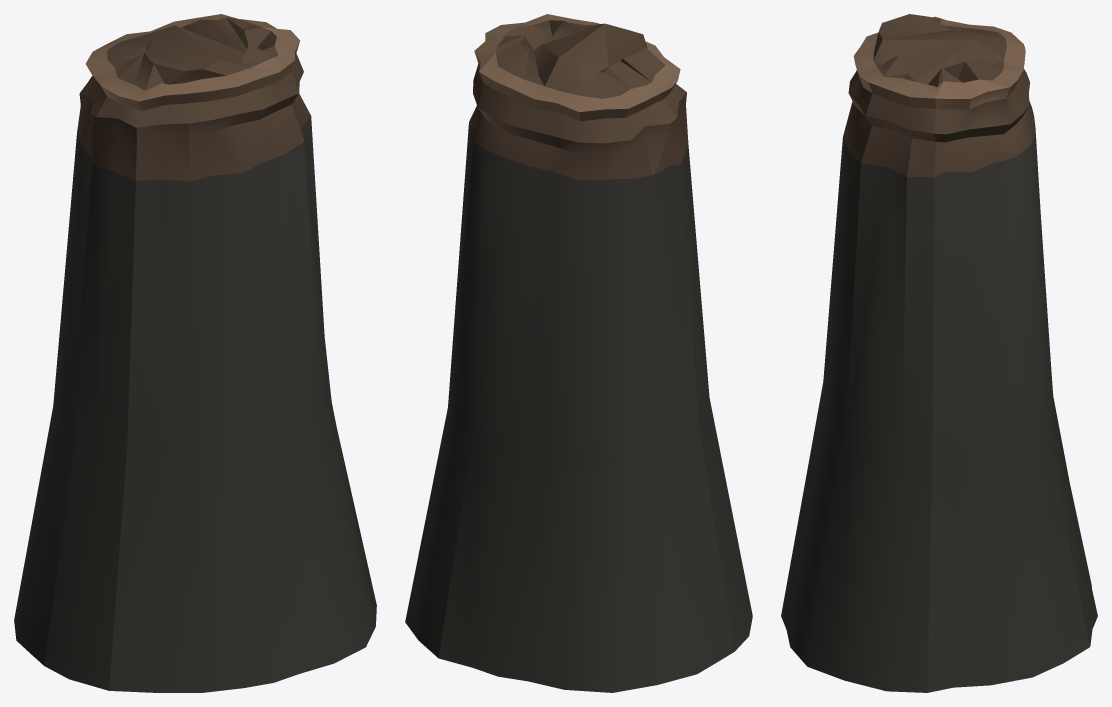
File: pedra-lago-1.glb
3 views of the same model, side by side, from view 1: azimuth 30°, elevation 25°; view 2: azimuth 150°, elevation 25°; view 3: azimuth 270°, elevation 25° (orthographic).
Parts seen in each view (by area): view 1: pedra-lago-1; view 2: pedra-lago-1; view 3: pedra-lago-1.
Part boxes in pixels (x1=…): pedra-lago-1: x1=14, y1=14, x2=376, y2=692; pedra-lago-1: x1=405, y1=14, x2=752, y2=692; pedra-lago-1: x1=781, y1=14, x2=1097, y2=692.
Size of the model in its own units: 37.37 by 66.39 by 33.07.
